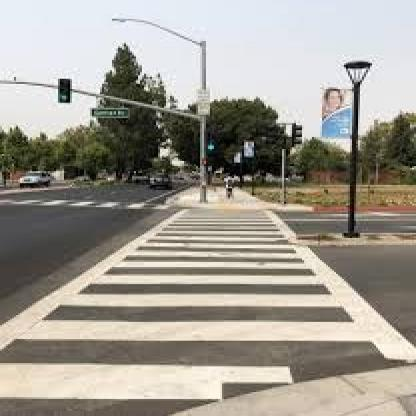Crosswalk: (0, 208, 416, 410)
Don-t Walk: (202, 157, 212, 168)
